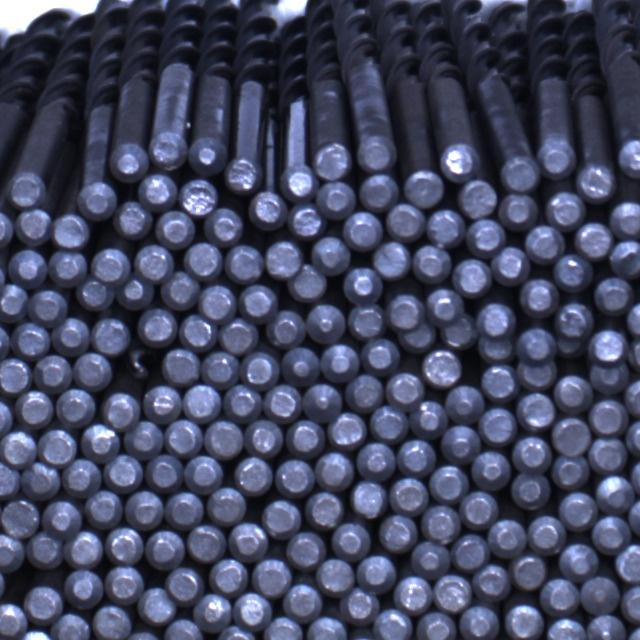tool: (574, 162, 614, 204), (90, 316, 131, 356), (144, 527, 184, 568), (261, 498, 301, 539), (422, 346, 463, 386), (300, 382, 342, 421), (204, 420, 244, 460), (252, 558, 292, 598), (184, 522, 224, 562), (55, 386, 95, 426), (137, 306, 177, 346), (228, 521, 268, 561), (50, 316, 90, 356), (427, 208, 467, 248), (283, 582, 323, 622), (137, 586, 177, 626), (310, 234, 350, 274), (332, 520, 372, 560), (306, 302, 345, 343), (265, 310, 305, 349), (61, 458, 101, 497), (1, 498, 40, 538), (355, 554, 395, 593), (122, 421, 162, 460), (125, 489, 164, 529), (20, 461, 60, 500), (280, 345, 319, 385), (185, 455, 224, 495), (320, 342, 360, 381), (314, 450, 353, 490), (206, 485, 246, 524), (265, 240, 304, 280), (452, 257, 491, 297), (433, 572, 472, 612), (234, 454, 273, 494), (102, 389, 142, 428), (239, 282, 278, 322), (405, 167, 445, 206), (377, 513, 417, 552), (239, 351, 279, 390), (472, 450, 511, 490), (442, 425, 481, 465), (519, 276, 558, 316), (42, 498, 83, 536), (104, 564, 143, 603), (72, 352, 111, 391), (355, 441, 394, 480), (183, 240, 222, 279), (105, 525, 144, 564), (413, 245, 452, 284), (343, 209, 382, 248), (558, 542, 597, 581), (143, 383, 182, 422), (411, 540, 450, 579), (23, 584, 62, 623), (552, 418, 591, 457), (82, 422, 121, 461), (164, 564, 203, 603), (594, 275, 633, 314), (458, 179, 497, 218), (114, 200, 153, 239), (38, 428, 78, 466), (274, 456, 314, 494), (284, 419, 324, 457), (526, 514, 564, 554), (182, 383, 222, 421), (385, 371, 423, 411), (372, 239, 412, 277), (579, 576, 619, 614), (85, 488, 123, 528), (232, 592, 272, 630), (540, 578, 580, 616), (105, 456, 145, 494), (288, 264, 328, 302), (29, 286, 69, 324), (285, 530, 325, 568), (306, 490, 344, 530), (396, 438, 436, 476), (8, 248, 48, 286), (446, 384, 484, 424), (525, 225, 565, 263), (595, 475, 633, 515), (500, 192, 540, 230), (250, 191, 288, 231), (219, 316, 260, 353), (164, 418, 203, 456), (316, 556, 355, 594), (162, 346, 201, 384), (165, 490, 204, 528), (487, 517, 525, 556), (201, 350, 240, 388), (223, 384, 262, 422), (318, 181, 357, 219), (459, 490, 498, 528), (394, 574, 432, 613), (157, 209, 196, 247), (134, 242, 173, 280), (345, 373, 383, 412), (66, 568, 104, 607), (422, 505, 461, 543), (389, 477, 428, 515), (592, 514, 630, 553), (468, 218, 507, 256), (263, 386, 302, 424), (205, 206, 243, 245), (429, 463, 468, 501), (161, 270, 199, 309), (409, 401, 448, 439), (472, 562, 510, 601), (140, 171, 179, 209), (554, 374, 592, 413), (110, 141, 148, 180), (491, 245, 529, 284), (554, 253, 593, 291), (189, 137, 227, 176), (148, 131, 186, 170), (91, 603, 131, 640), (10, 322, 50, 359), (510, 473, 550, 510), (339, 586, 379, 623), (386, 202, 424, 240), (226, 245, 264, 283), (244, 419, 282, 457), (26, 530, 64, 568), (193, 593, 231, 631), (64, 528, 102, 566), (50, 248, 88, 286), (575, 220, 613, 258), (178, 312, 216, 350), (478, 406, 516, 444), (344, 267, 382, 305), (516, 391, 554, 429), (546, 191, 584, 229), (79, 180, 117, 218), (178, 177, 217, 214), (32, 354, 71, 391), (328, 412, 367, 449), (360, 172, 399, 209), (359, 338, 398, 375), (224, 156, 261, 195), (476, 300, 516, 336), (439, 312, 479, 348), (458, 605, 499, 640), (209, 557, 247, 594), (145, 453, 182, 491), (15, 389, 53, 426), (200, 282, 238, 319), (451, 532, 488, 570), (558, 491, 596, 528), (425, 285, 463, 322), (313, 142, 350, 180), (514, 436, 551, 474), (441, 142, 478, 180), (370, 406, 409, 442), (506, 602, 545, 638), (91, 246, 130, 282), (0, 430, 36, 469), (590, 329, 629, 365), (351, 480, 388, 517), (16, 207, 53, 244), (509, 553, 546, 590), (385, 293, 422, 330), (590, 399, 628, 435), (347, 302, 385, 338), (502, 154, 540, 190), (590, 437, 628, 472), (516, 328, 554, 363), (481, 363, 517, 399), (10, 169, 46, 205), (280, 166, 316, 202), (53, 212, 91, 246), (552, 456, 590, 490), (609, 239, 640, 280), (118, 276, 155, 310), (77, 277, 115, 310), (374, 608, 412, 640), (398, 321, 436, 353), (417, 611, 456, 640), (50, 612, 90, 640), (558, 304, 592, 336), (0, 356, 31, 391), (585, 614, 626, 640), (0, 282, 28, 320), (612, 200, 640, 237), (306, 616, 348, 640), (0, 601, 27, 638), (615, 543, 640, 582), (263, 616, 302, 640), (548, 616, 586, 640), (555, 329, 586, 358), (0, 533, 23, 572), (163, 618, 203, 640), (619, 137, 640, 177), (0, 460, 20, 499), (621, 582, 640, 621), (215, 625, 255, 640), (625, 376, 640, 416), (0, 394, 13, 435), (626, 301, 640, 337), (0, 208, 13, 246), (627, 419, 640, 456), (628, 496, 640, 535), (15, 629, 55, 640), (123, 629, 161, 640), (0, 322, 10, 361), (630, 458, 640, 496), (0, 564, 6, 602), (628, 625, 640, 639)
tool_b: (124, 346, 157, 382)
